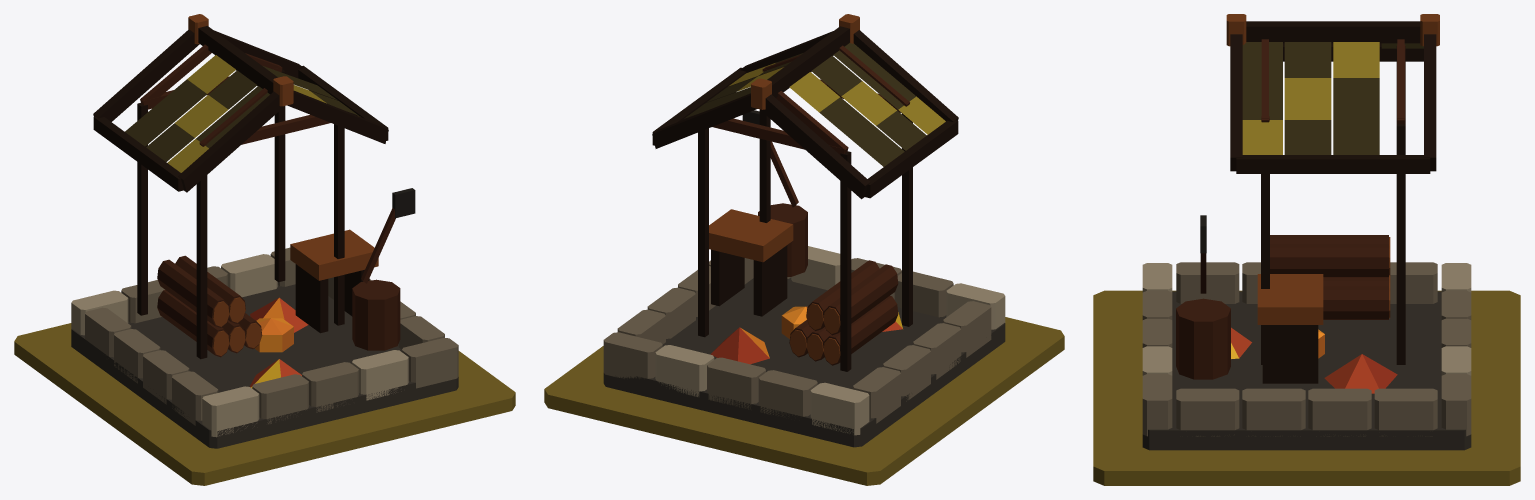
Rendered from timber_yard_t2.glb.
3 views of the same model, side by side, from view 1: azimuth 30°, elevation 25°; view 2: azimuth 150°, elevation 25°; view 3: azimuth 270°, elevation 25° (orthographic). The views are drawn at different scales.
Parts seen in each view (by area): view 1: MMR | timber_yard | T02 Architecture.001, MMR | timber_yard | Tier 02 Ground.001, MMR | timber_yard | T02 Autumn Dressing.001; view 2: MMR | timber_yard | T02 Architecture.001, MMR | timber_yard | Tier 02 Ground.001, MMR | timber_yard | T02 Autumn Dressing.001; view 3: MMR | timber_yard | T02 Architecture.001, MMR | timber_yard | Tier 02 Ground.001, MMR | timber_yard | T02 Autumn Dressing.001.
Boxes of the visible parts, left/top/right/bottom form: MMR | timber_yard | T02 Architecture.001: left=71, top=14, right=458, bottom=448; MMR | timber_yard | Tier 02 Ground.001: left=14, top=323, right=515, bottom=485; MMR | timber_yard | T02 Autumn Dressing.001: left=249, top=297, right=308, bottom=388; MMR | timber_yard | T02 Architecture.001: left=603, top=14, right=1005, bottom=447; MMR | timber_yard | Tier 02 Ground.001: left=544, top=317, right=1064, bottom=485; MMR | timber_yard | T02 Autumn Dressing.001: left=710, top=306, right=902, bottom=364; MMR | timber_yard | T02 Architecture.001: left=1142, top=14, right=1471, bottom=450; MMR | timber_yard | Tier 02 Ground.001: left=1093, top=290, right=1520, bottom=485; MMR | timber_yard | T02 Autumn Dressing.001: left=1231, top=327, right=1397, bottom=393.
Bounding box in the file's own units: 1.3 × 1.25 × 1.3.
Materials: 1 (1 with a texture image).
